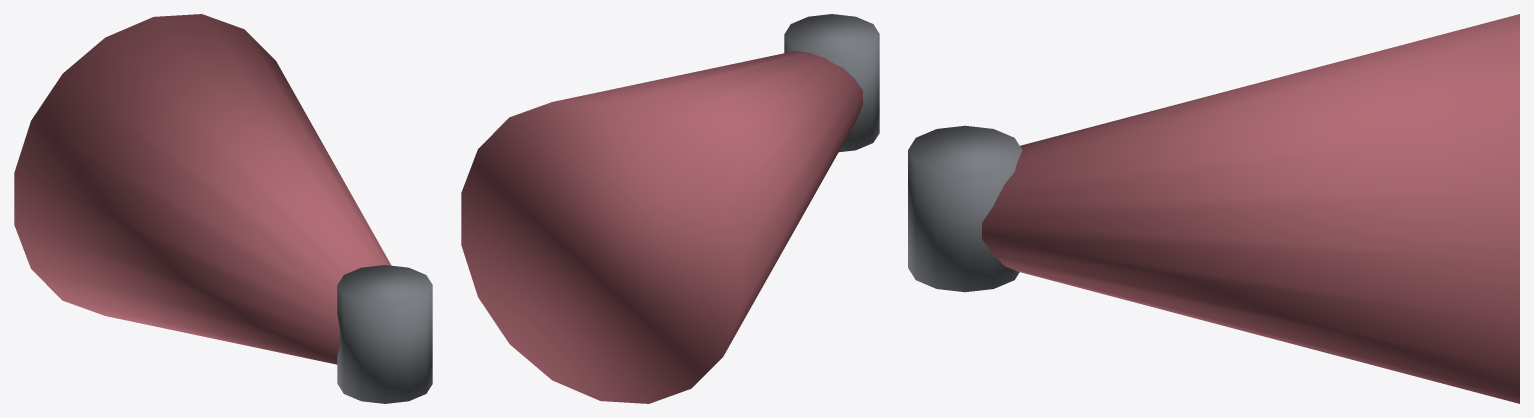
File: Prop_Megaphone_attach_hand_r.glb
3 views of the same model, side by side, from view 1: azimuth 30°, elevation 25°; view 2: azimuth 150°, elevation 25°; view 3: azimuth 270°, elevation 25° (orthographic). The views are drawn at different scales.
Parts seen in each view (by area): view 1: Prop_Megaphone_attach_hand_r_LOD0; view 2: Prop_Megaphone_attach_hand_r_LOD0; view 3: Prop_Megaphone_attach_hand_r_LOD0.
Part boxes in pixels (left/top/right/bottom): Prop_Megaphone_attach_hand_r_LOD0: left=14, top=14, right=432, bottom=403; Prop_Megaphone_attach_hand_r_LOD0: left=461, top=14, right=879, bottom=403; Prop_Megaphone_attach_hand_r_LOD0: left=908, top=14, right=1519, bottom=403.
Bounding box in the file's own units: 0.2364 × 0.24 × 0.375.
